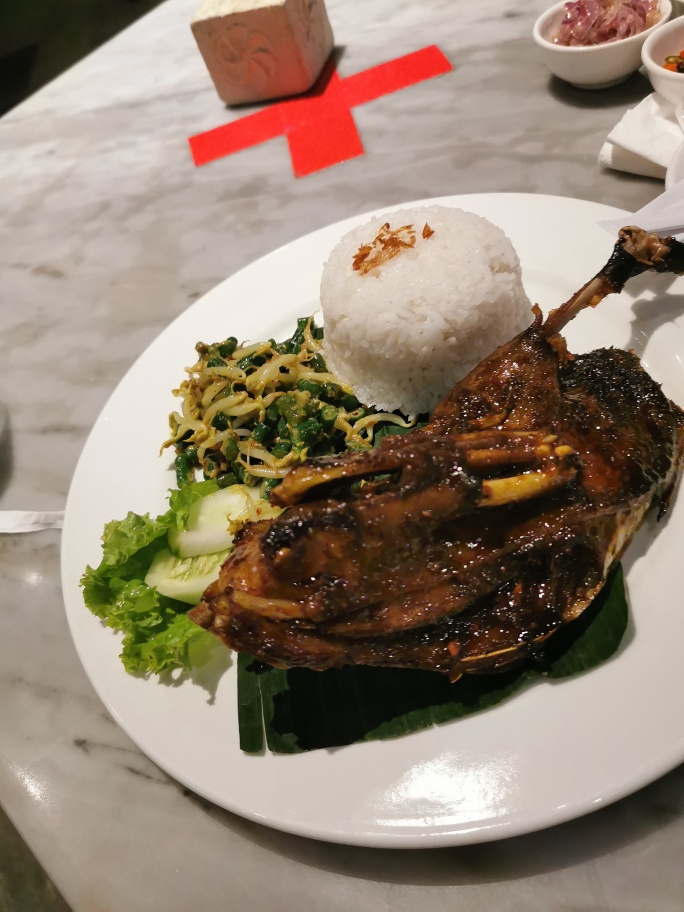bebek bakar: (191, 228, 684, 665)
nasi putih: (305, 201, 549, 415)
